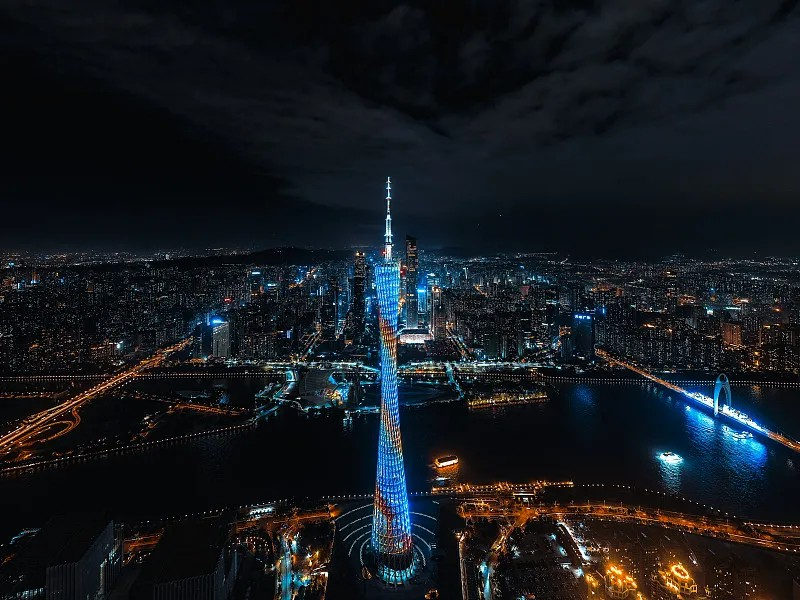Canton: (372, 177, 413, 581)
